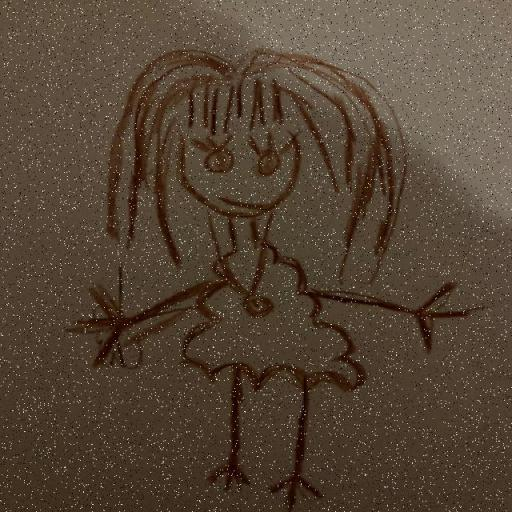person: (76, 50, 473, 510)
